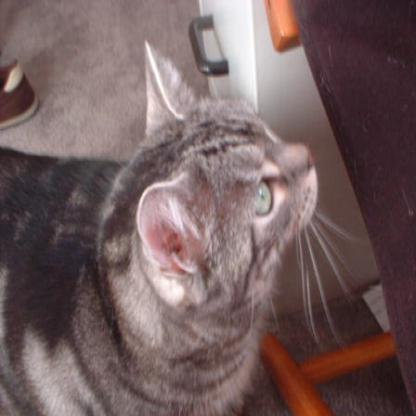cat: (0, 38, 318, 415)
